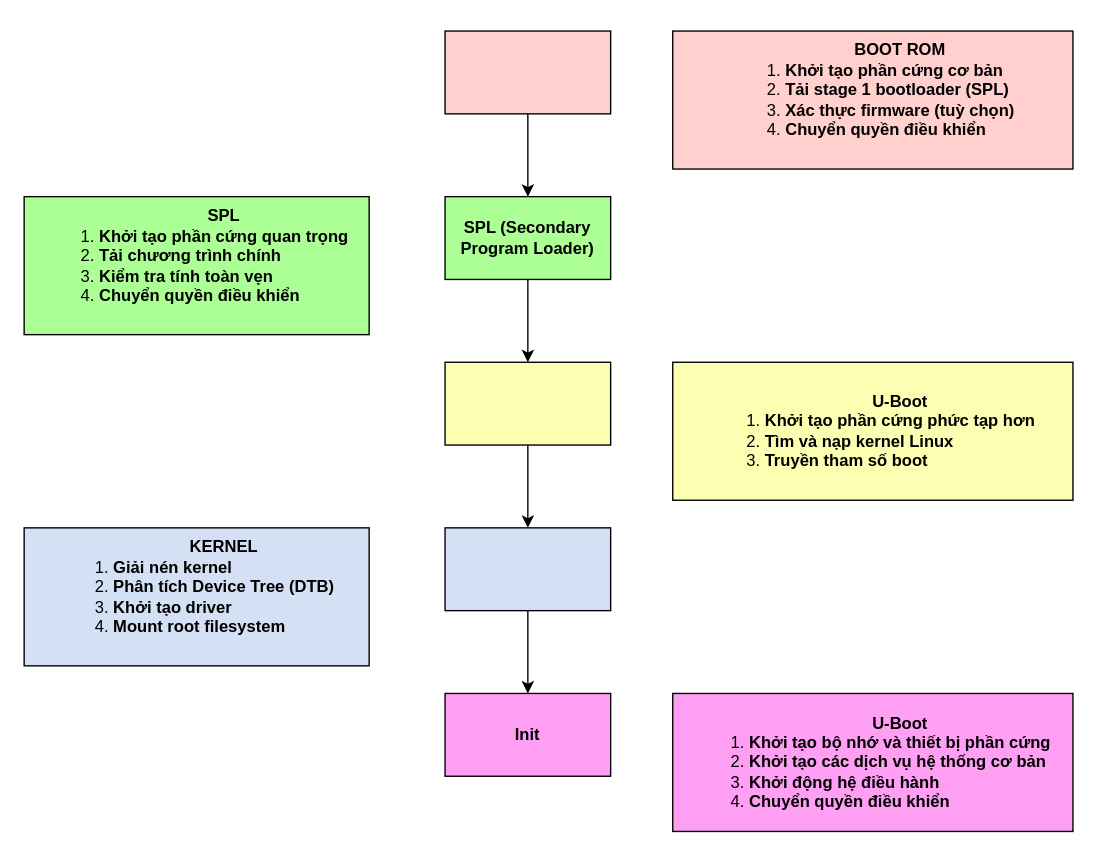
The diagram is 1097 pixels wide and 856 high, and some of its shapes have lost their labels. The centre of each missing label's shape, as x and y in pixels:
"Boot ROM" goes at pixel 527 72.
"Kernel" goes at pixel 527 568.
"U-Boot (Bootloader chính)" goes at pixel 527 403.
